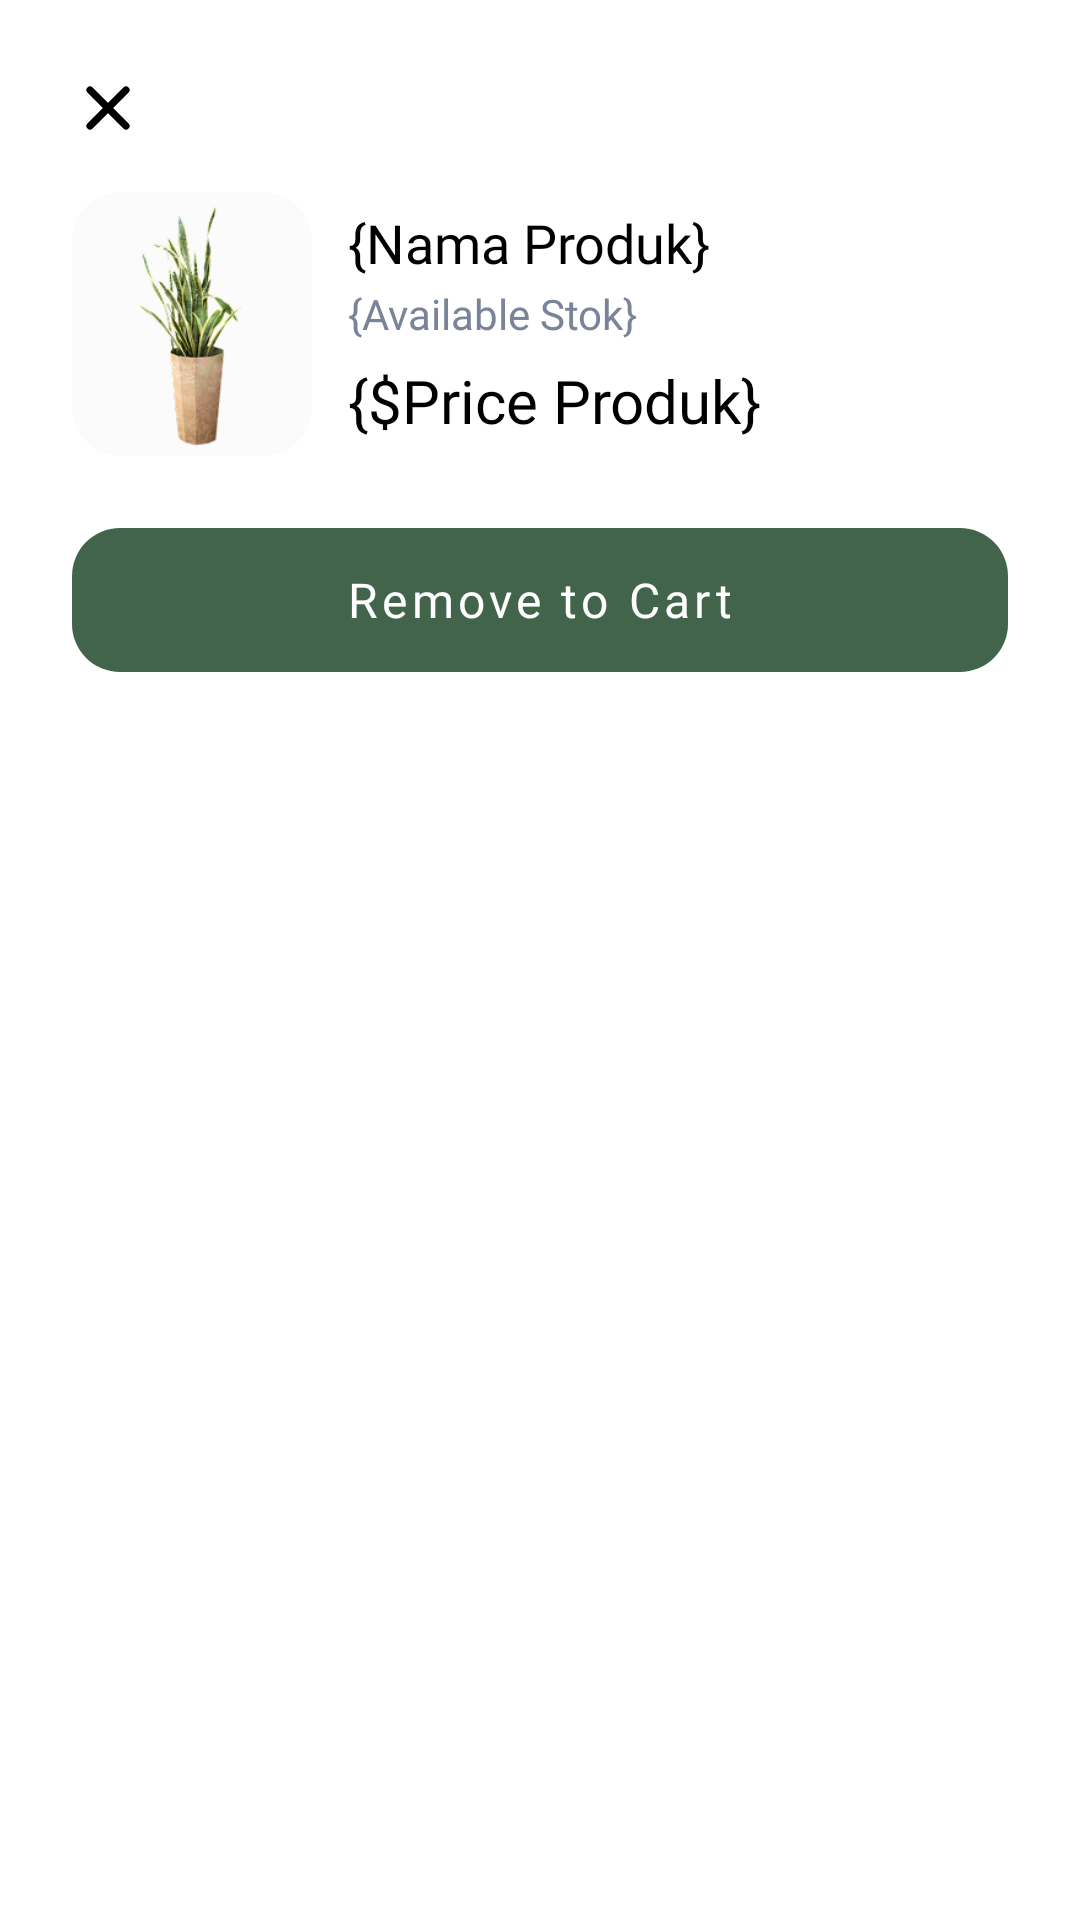

Icon bounding boxes for this 1080w x 1920h phone screenshot, format (x1, y1, x2, y2):
example plants: (139, 208, 240, 445)
